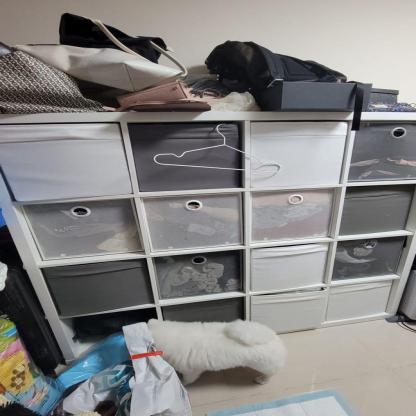lamp: (0, 111, 415, 371)
